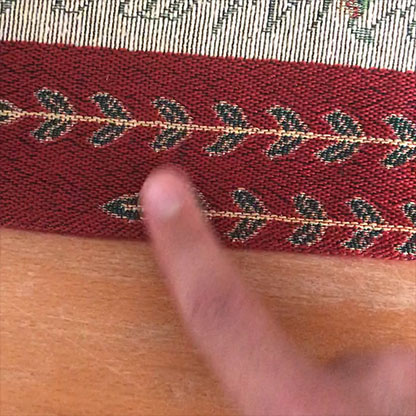fingertip: (120, 159, 204, 234)
